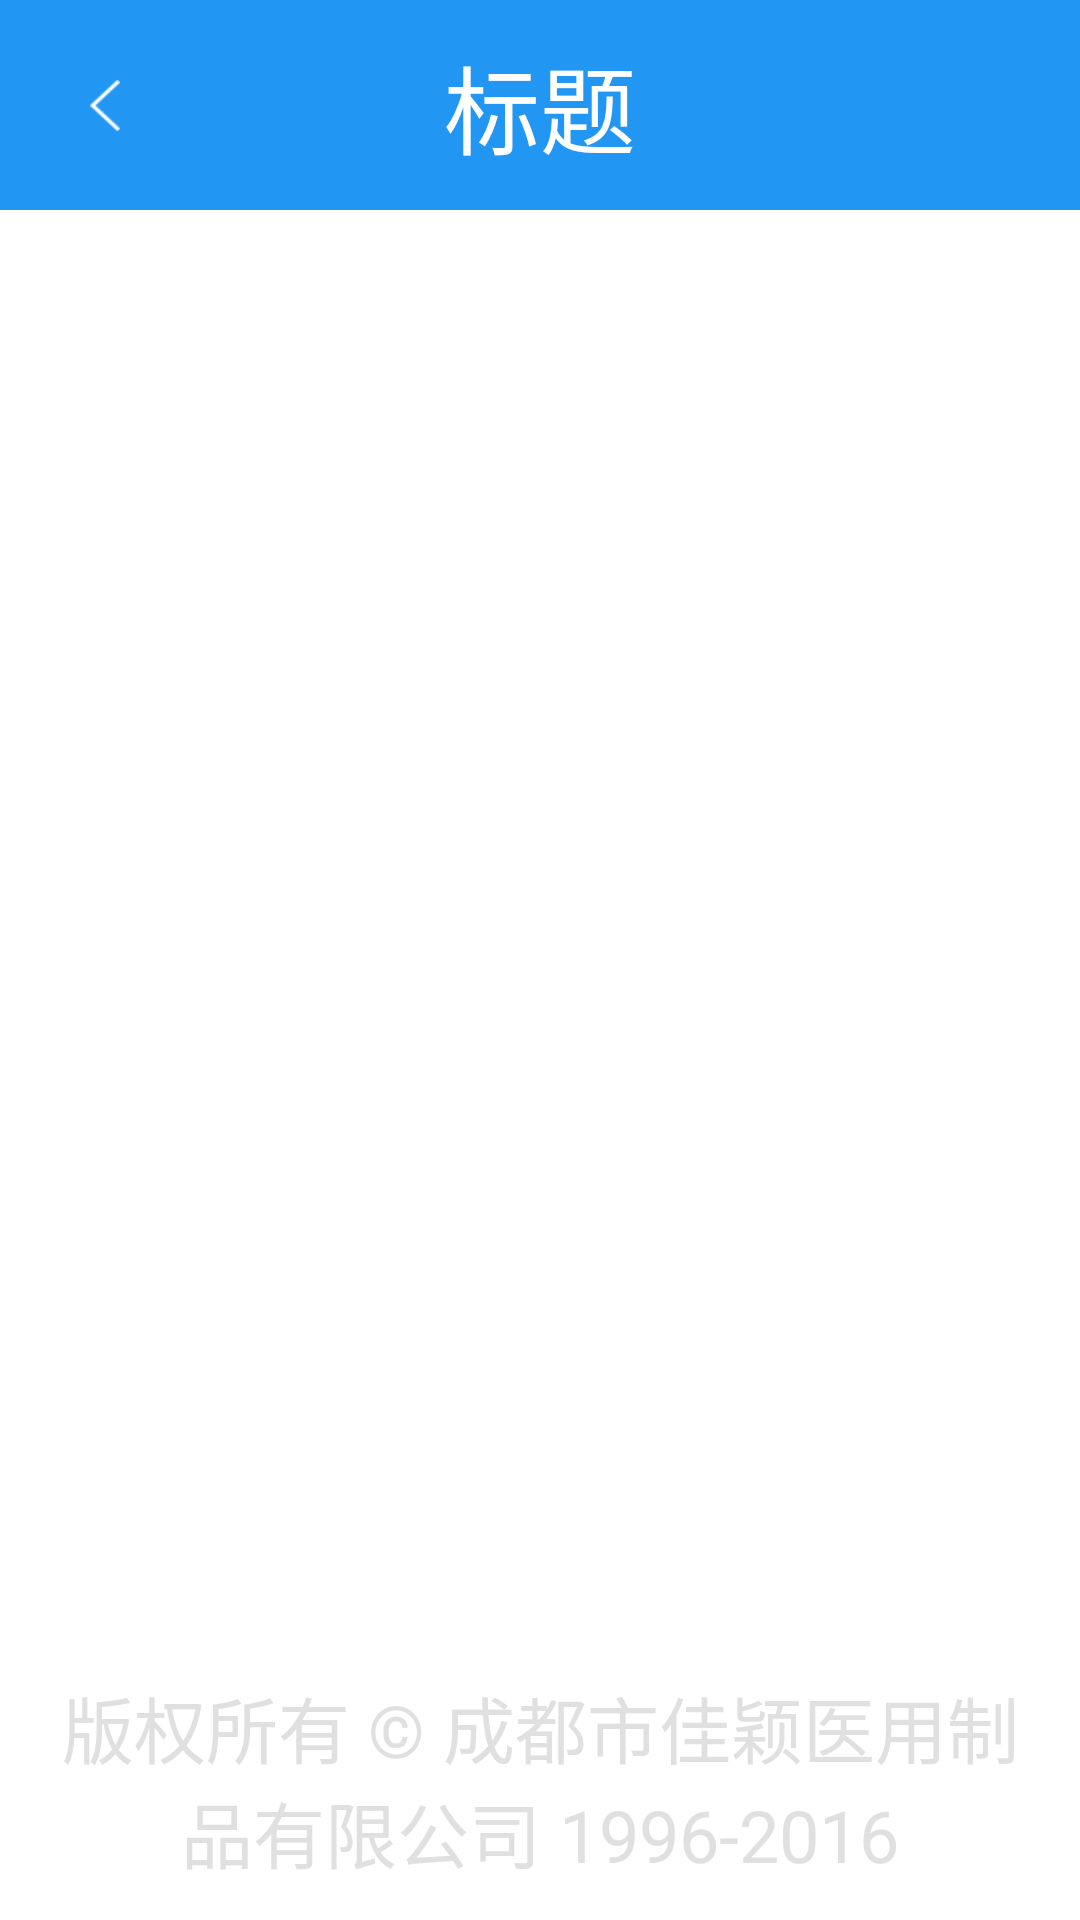

Icons on this 1080 x 1920 Android screen, each with its box as {"x1": x1, "y1": y1, "x2": x2, "y2": y2}:
jiantou press: {"x1": 90, "y1": 80, "x2": 120, "y2": 131}
